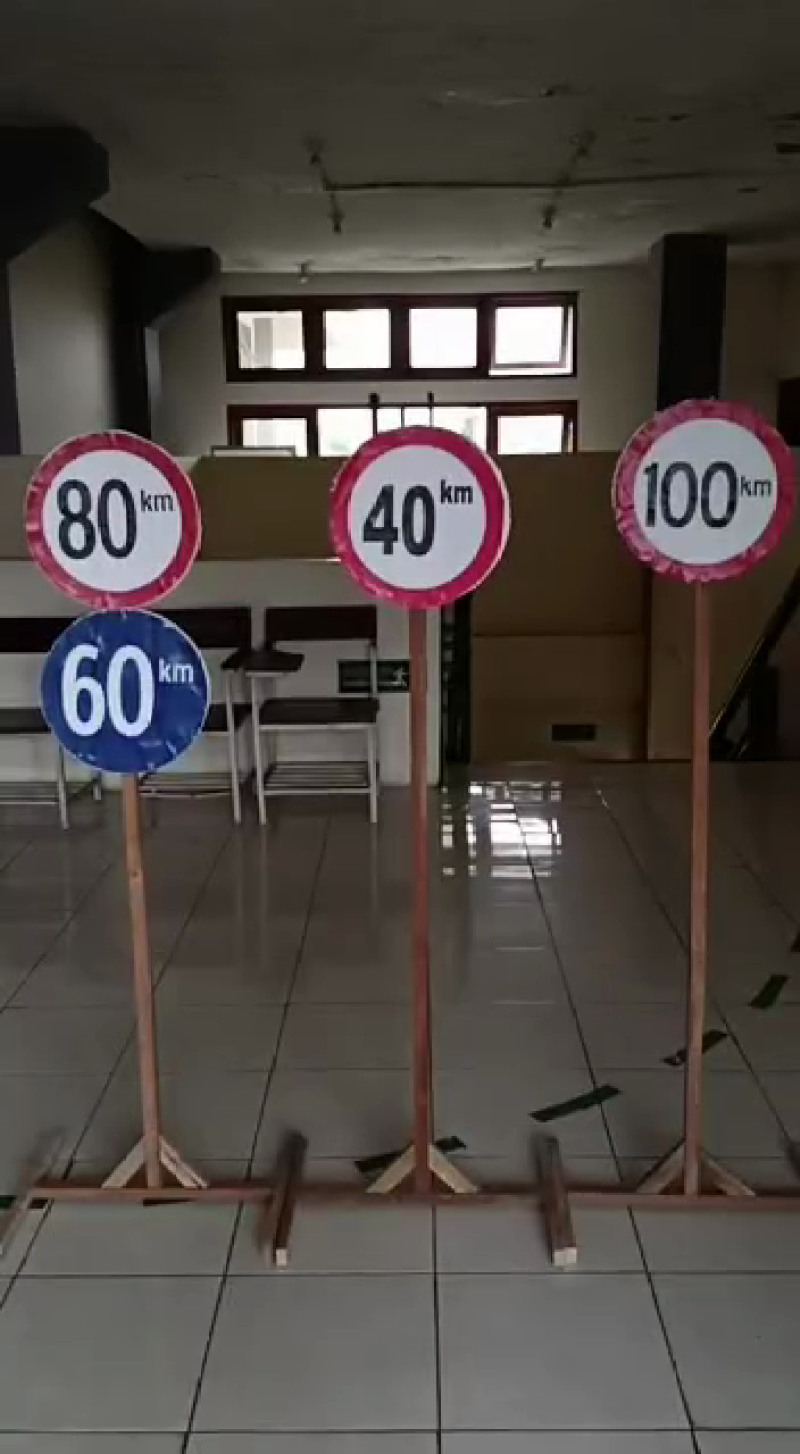batas maksimal 100kmperjam: (594, 401, 800, 581)
batas maksimal 40kmperjam: (326, 422, 520, 616)
batas maksimal 80kmperjam minimal 60kmperjam: (9, 414, 222, 790)
